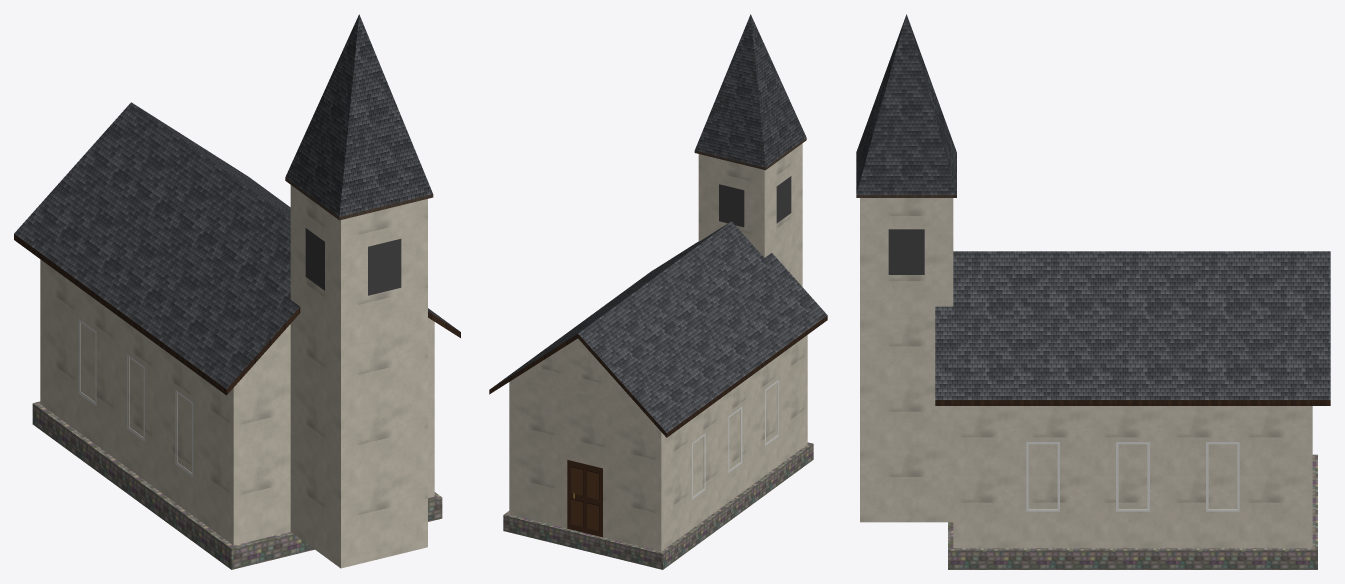
File: chapel0.fbx
The picture shows the model from 3 angles, left to right: view 1: azimuth 30°, elevation 25°; view 2: azimuth 150°, elevation 25°; view 3: azimuth 270°, elevation 25°; orthographic projection. The views are drawn at different scales.
Visible parts, largest first — view 1: chapel0; view 2: chapel0; view 3: chapel0.
Boxes of the visible parts, x1,y1,x2,y2 form: chapel0: (14,14,460,569); chapel0: (489,14,827,569); chapel0: (856,14,1330,569).
Size of the model in its own units: 7 by 15.6 by 13.2.
8 materials, 6 textured.
